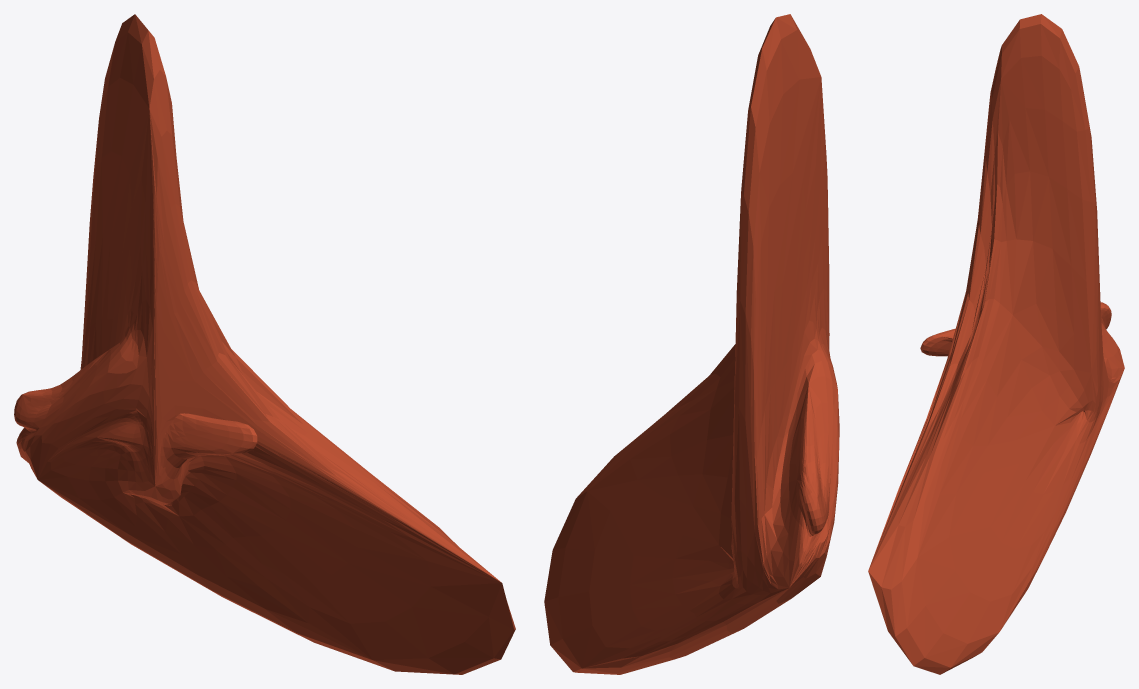
3 views of the same model, side by side, from view 1: azimuth 30°, elevation 25°; view 2: azimuth 150°, elevation 25°; view 3: azimuth 270°, elevation 25° (orthographic). The views are drawn at different scales.
Visible parts, largest first — view 1: 217_Cube.893; view 2: 217_Cube.893; view 3: 217_Cube.893.
Boxes of the visible parts, x1,y1,x2,y2 form: 217_Cube.893: (14,14,515,674); 217_Cube.893: (544,14,839,674); 217_Cube.893: (868,14,1124,674).
Size of the model in its own units: 9.17 by 16.01 by 6.71.
